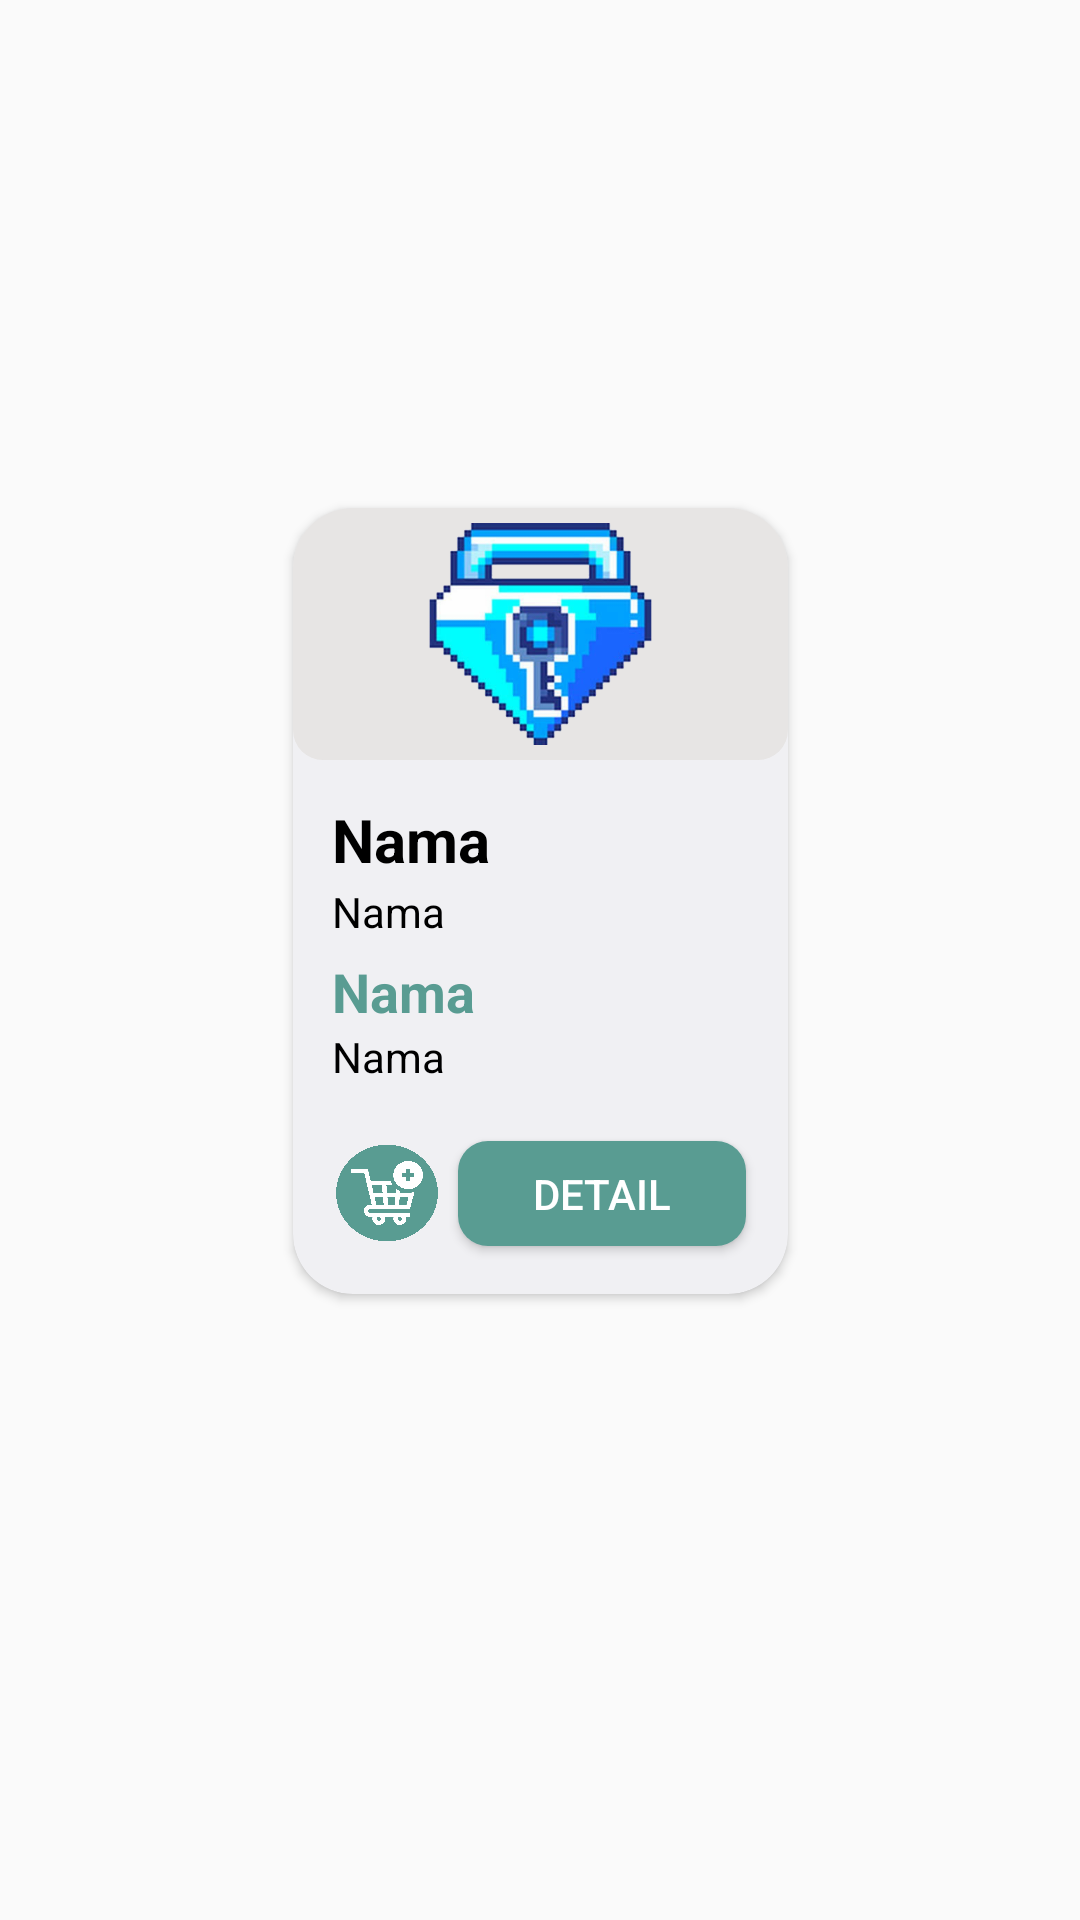

Named icons in this screenshot (1080×1920) and their centers, point (x, y):
addcart: point (387, 1193)
